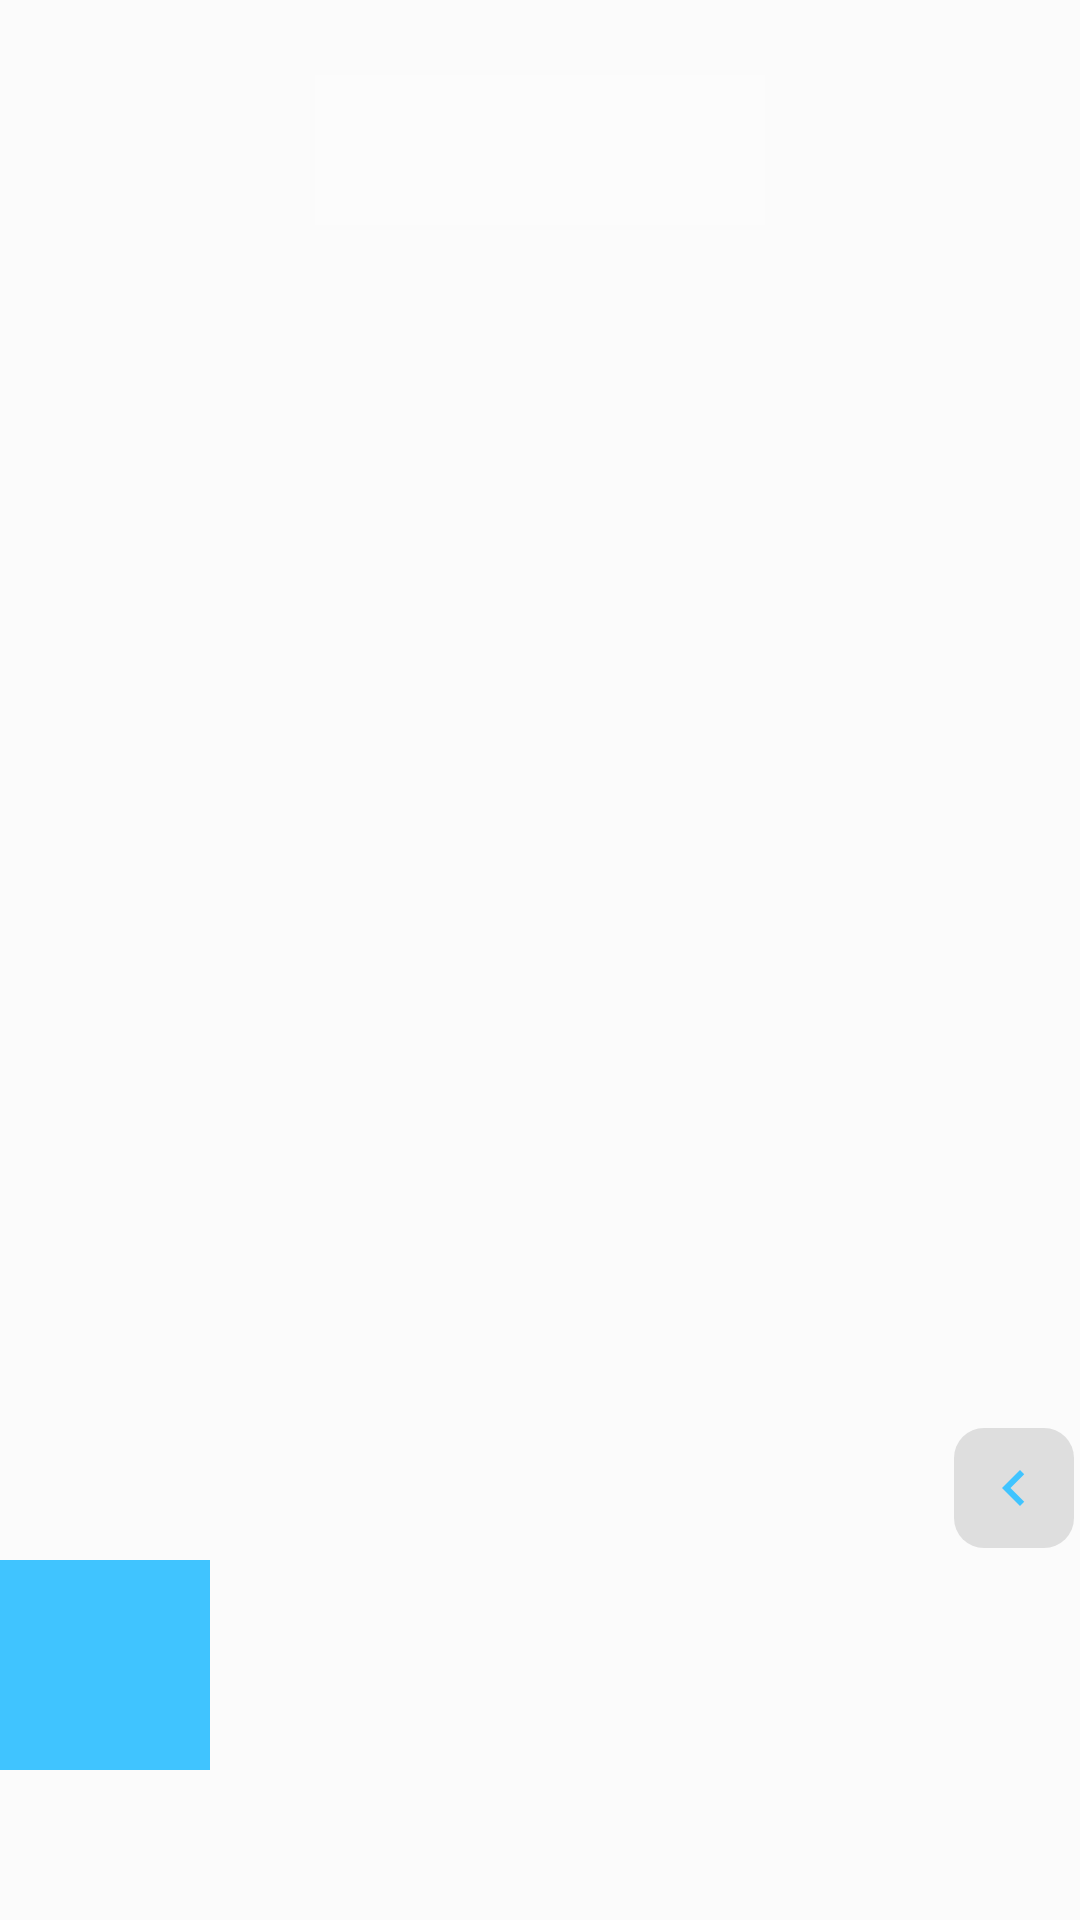

Icon bounding boxes for this 1080*1920 phone screenshot, format (x1, y1, x2, y2):
mytext left: (954, 1428, 1074, 1548)
